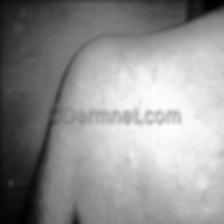Unclassified: (93, 166, 156, 224), (80, 58, 150, 103), (47, 128, 88, 200), (120, 43, 220, 59), (104, 138, 157, 161), (32, 198, 69, 224), (38, 168, 50, 197)
